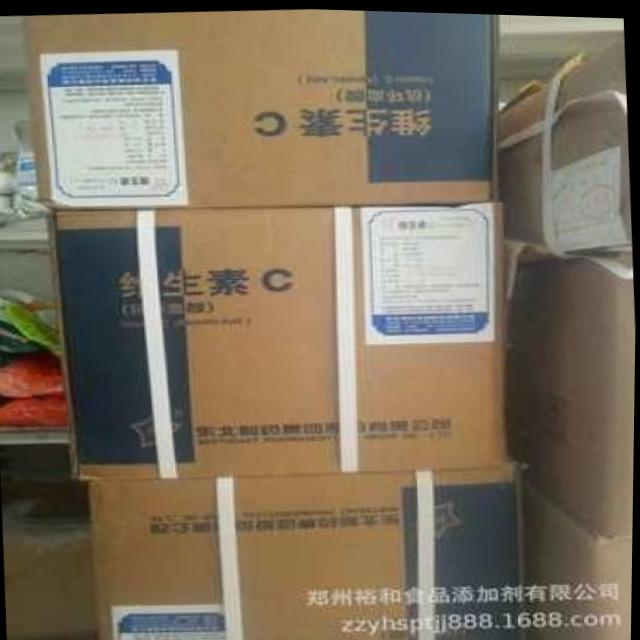box: (53, 197, 515, 481), (20, 8, 501, 213), (90, 462, 531, 640)
